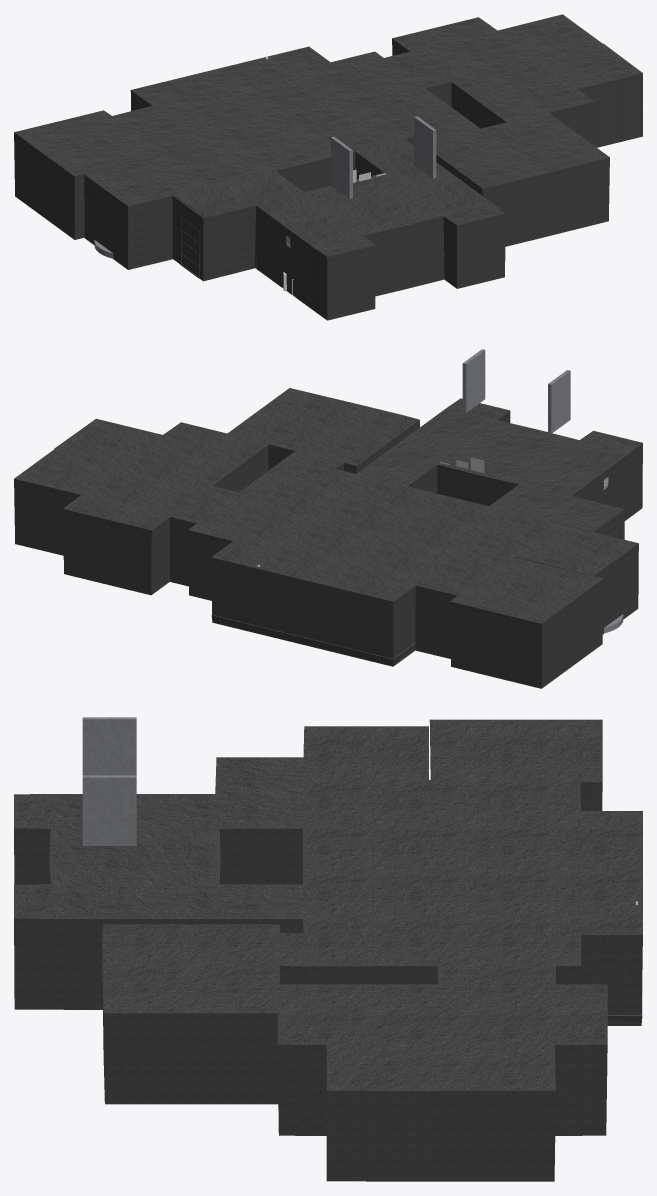
The model's file is Fnaf 1 Map.fbx.
The picture shows the model from 3 angles, top to bottom: view 1: azimuth 30°, elevation 25°; view 2: azimuth 150°, elevation 25°; view 3: azimuth 270°, elevation 25°; orthographic projection. The views are drawn at different scales.
Visible parts, largest first — view 1: Plane.125, Plane.001, Plane.105, Plane.104; view 2: Plane.125, Plane.001, Plane.105, Plane.104; view 3: Plane.125, Plane.001, Plane.105, Plane.104.
Boxes of the visible parts, bbox=[...] form: Plane.125: bbox=[17, 15, 639, 255]; Plane.001: bbox=[14, 14, 642, 320]; Plane.105: bbox=[414, 116, 436, 178]; Plane.104: bbox=[331, 136, 352, 198]; Plane.125: bbox=[17, 389, 639, 622]; Plane.001: bbox=[14, 388, 642, 688]; Plane.105: bbox=[462, 349, 485, 412]; Plane.104: bbox=[548, 370, 570, 433]; Plane.125: bbox=[17, 720, 641, 1089]; Plane.001: bbox=[14, 719, 642, 1181]; Plane.105: bbox=[82, 775, 136, 845]; Plane.104: bbox=[82, 717, 136, 775].
Size of the model in its own units: 3551 by 947 by 2541.
